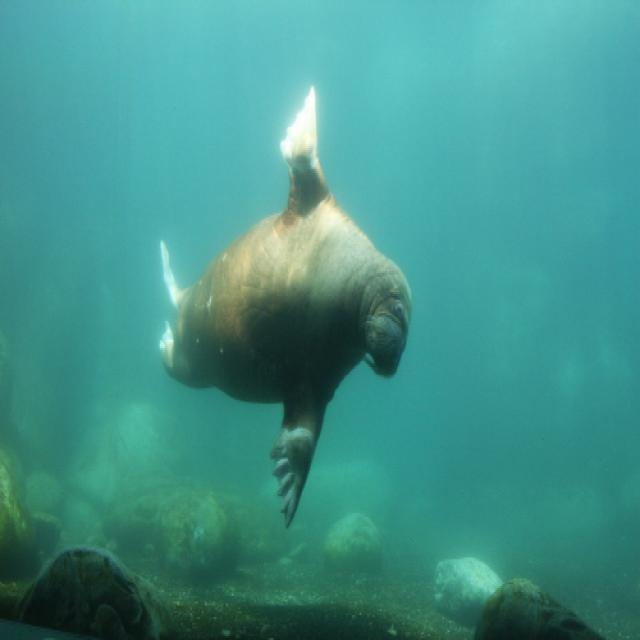walrus: (138, 64, 464, 518)
